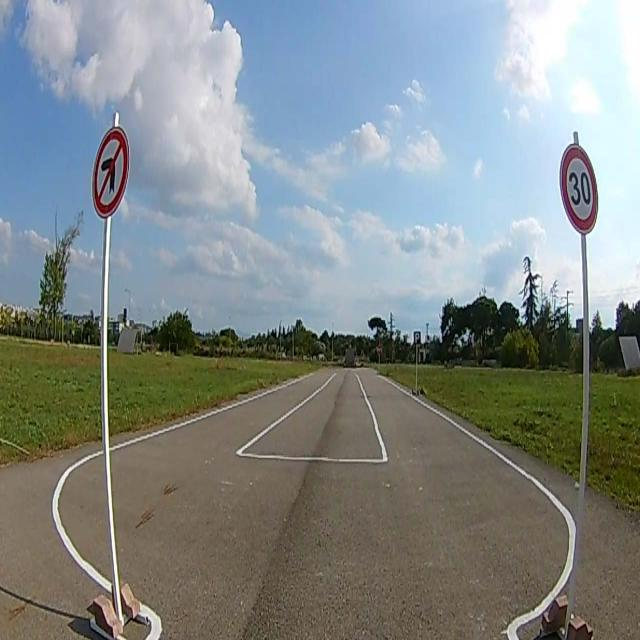30: (559, 144, 599, 232)
soladonulmez: (89, 130, 130, 216)
